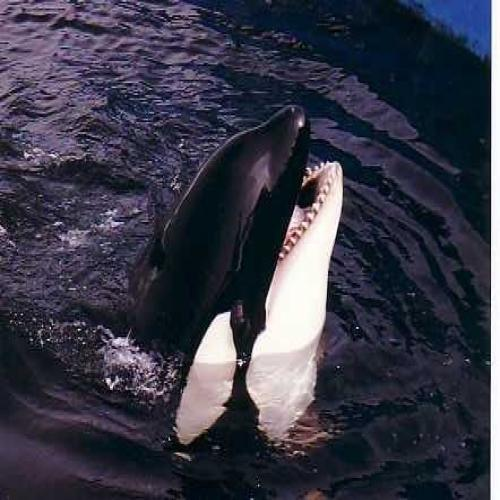killer_whale-endangered: (126, 55, 368, 460)
